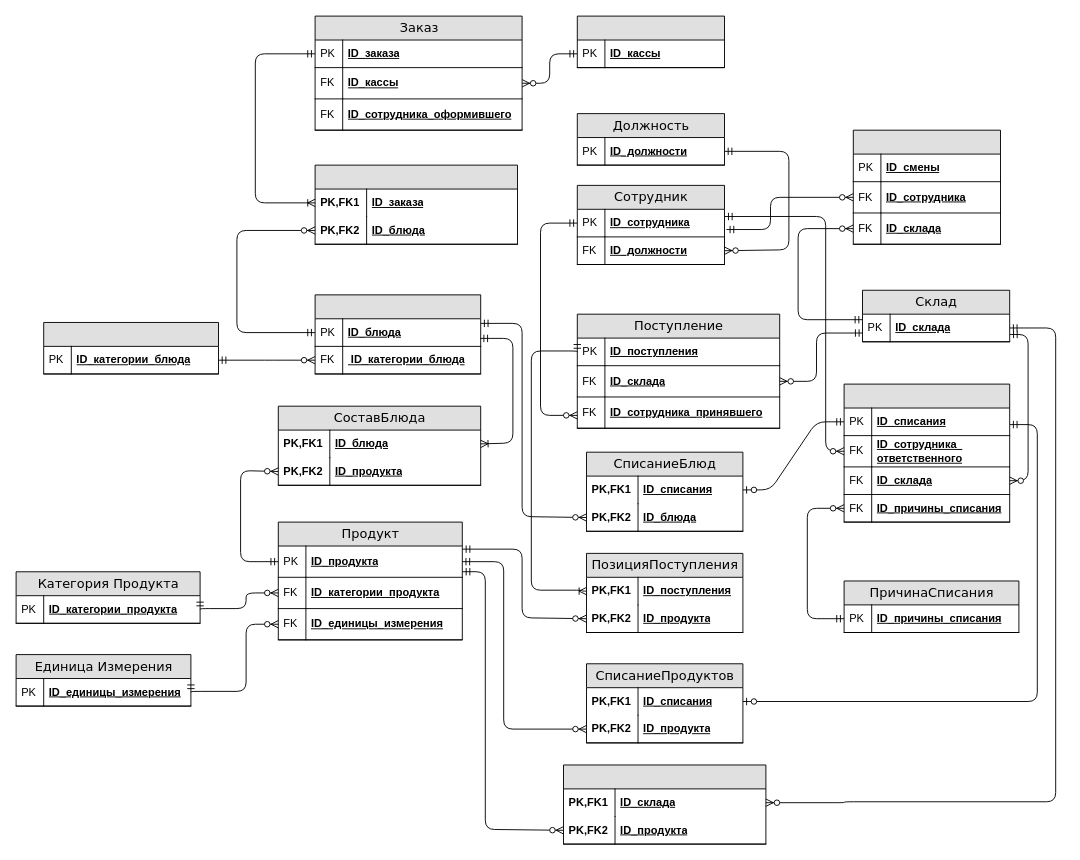
The diagram is 1080 pixels wide and 860 high, and some of its shapes have lost their labels. Each missing label, with the box of its shape:
Блюдо: (314, 294, 481, 374)
Касса: (576, 15, 724, 68)
КатегорияБлюда: (43, 322, 218, 374)
ОстатокПродуктаНаСкладе: (563, 764, 766, 844)
ПозицияЗаказа: (314, 164, 518, 244)
Смена: (852, 129, 1000, 244)
Списание: (843, 383, 1010, 522)
